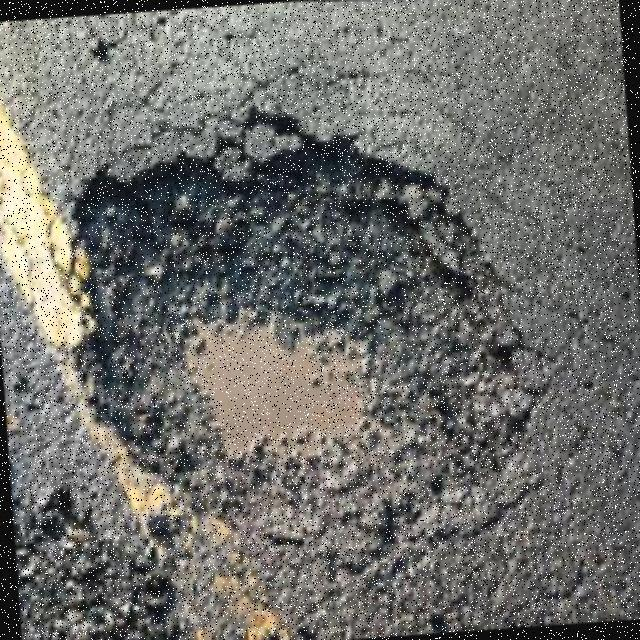Pothole: (71, 135, 532, 516)
